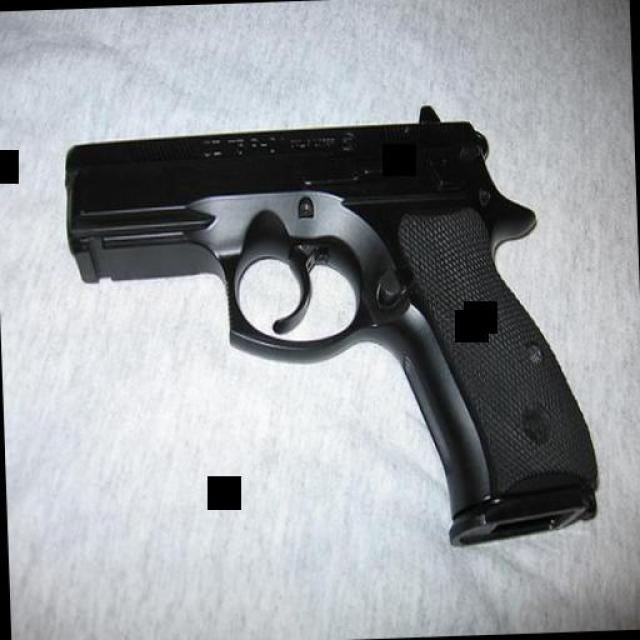gun: (60, 98, 598, 538)
